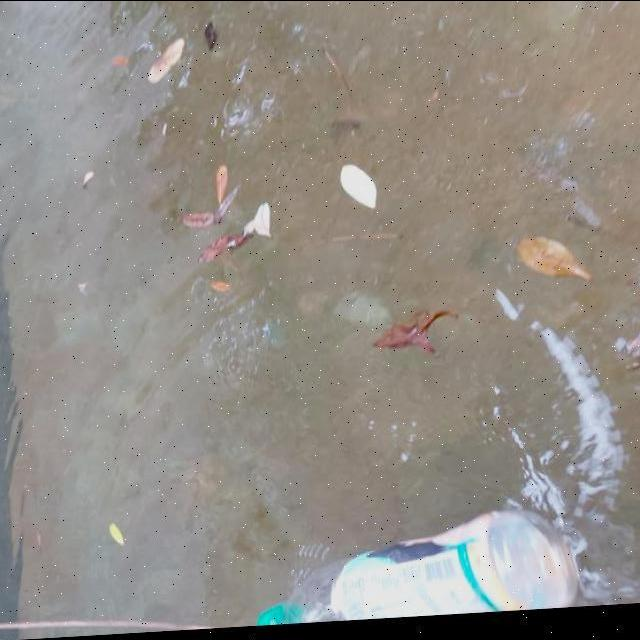Bottle: (199, 473, 588, 640)
